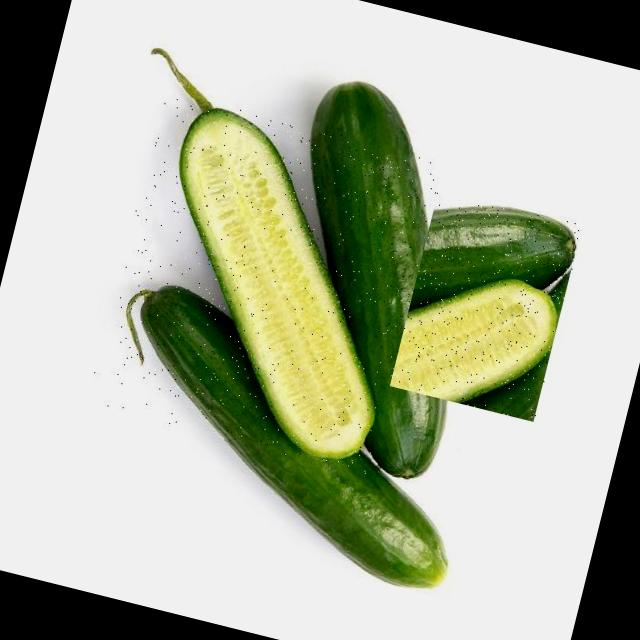Cucumber: (86, 284, 489, 594), (235, 72, 492, 475), (408, 191, 580, 348)
